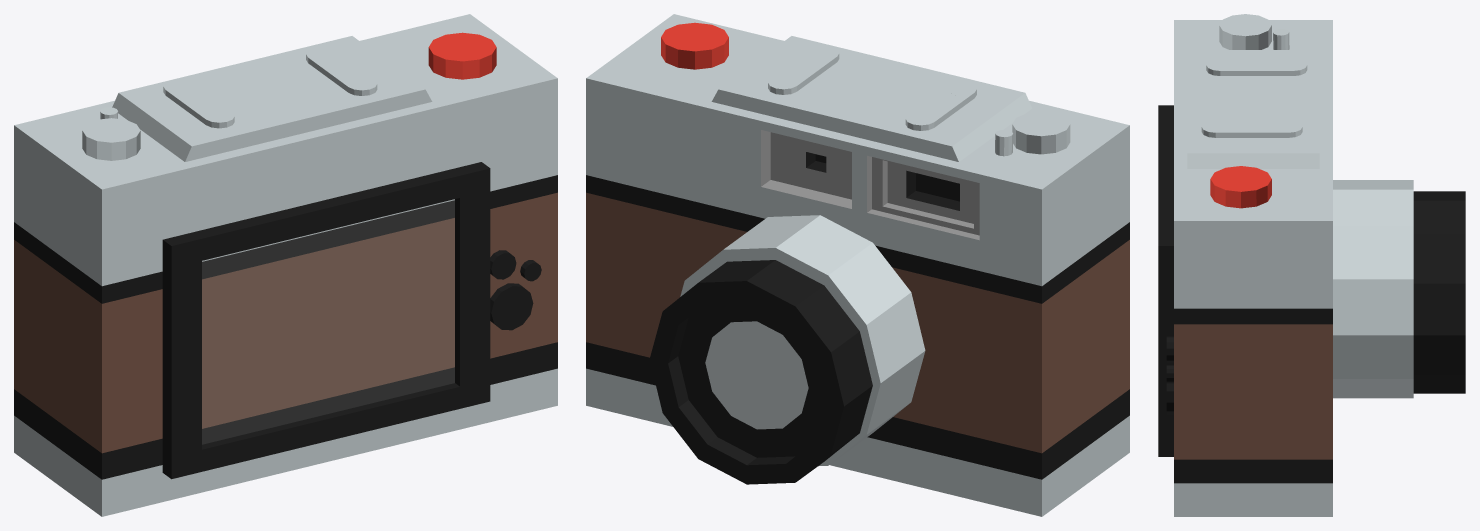
File: Camera_brown.gltf
3 renders of one model, left to right at view 1: azimuth 30°, elevation 25°; view 2: azimuth 150°, elevation 25°; view 3: azimuth 270°, elevation 25°, orthographic. The views are drawn at different scales.
Visible parts, largest first — view 1: Node-Mesh, Node-Mesh_4, Node-Mesh_1, Node-Mesh_2, Node-Mesh_3; view 2: Node-Mesh, Node-Mesh_4, Node-Mesh_1, Node-Mesh_5, Node-Mesh_2, Node-Mesh_3; view 3: Node-Mesh, Node-Mesh_1, Node-Mesh_4, Node-Mesh_3.
Boxes of the visible parts, x1,y1,x2,y2 form: Node-Mesh: (14, 14, 557, 516); Node-Mesh_4: (14, 192, 557, 453); Node-Mesh_1: (14, 162, 557, 479); Node-Mesh_2: (202, 200, 454, 443); Node-Mesh_3: (428, 32, 496, 79); Node-Mesh: (586, 14, 1129, 516); Node-Mesh_4: (586, 192, 1129, 453); Node-Mesh_1: (586, 152, 1129, 484); Node-Mesh_5: (761, 130, 979, 240); Node-Mesh_2: (706, 322, 807, 428); Node-Mesh_3: (661, 22, 728, 69); Node-Mesh: (1174, 14, 1413, 516); Node-Mesh_1: (1158, 105, 1465, 483); Node-Mesh_4: (1174, 324, 1332, 459); Node-Mesh_3: (1210, 166, 1271, 208).
Bounding box in the file's own units: 0.5426 × 0.3948 × 0.3508.
